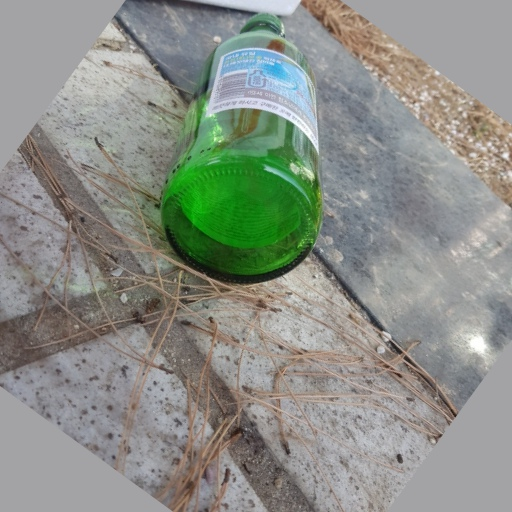Glass_0: (161, 13, 323, 285)
